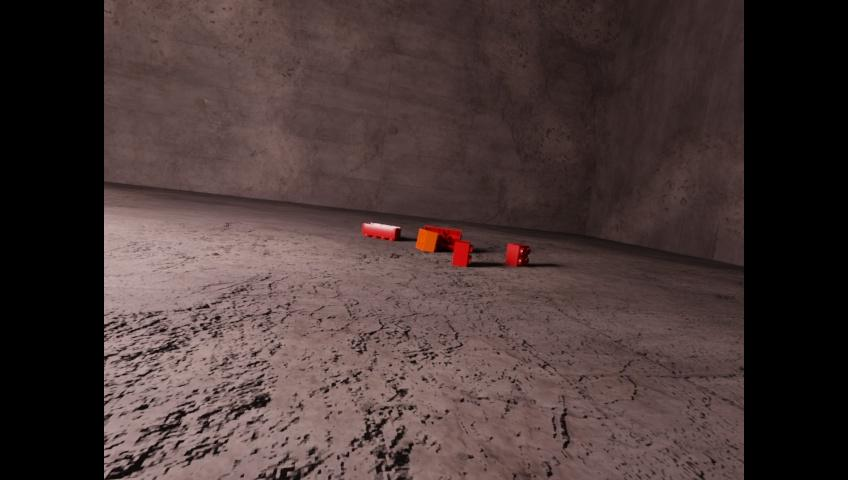2x2_orange: (416, 228, 437, 251)
2x2_red: (452, 239, 472, 266), (505, 243, 528, 266)
4x2_red: (424, 225, 460, 251), (362, 223, 399, 241)
